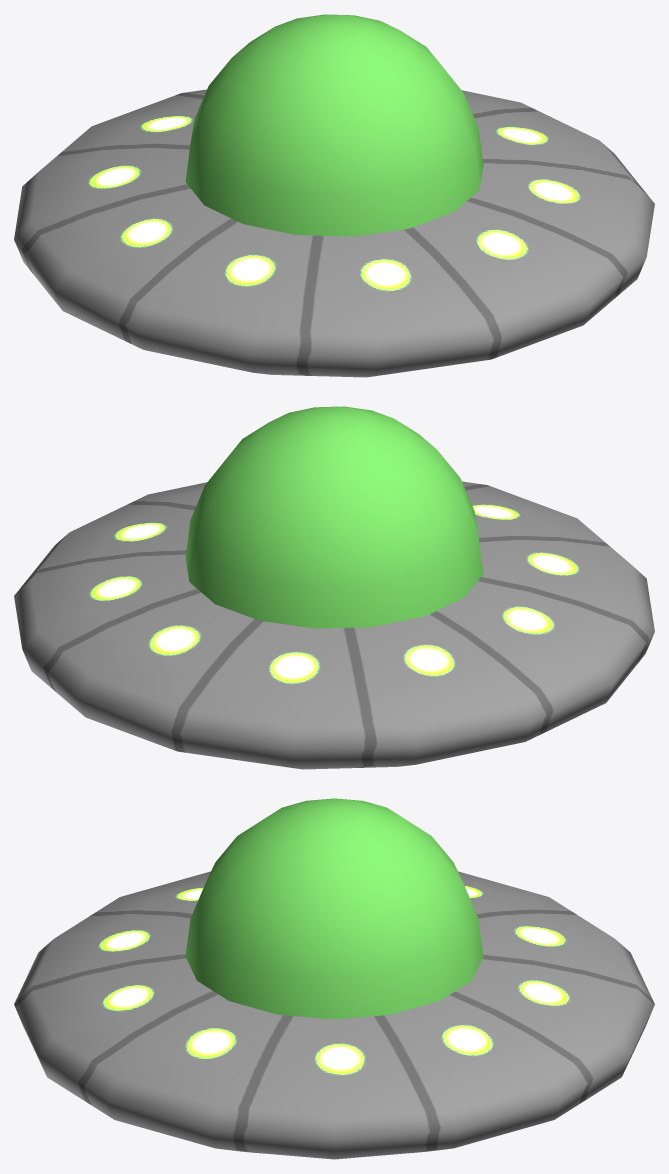
Rendered from UFO.fbx.
3 views of the same model, one above another, from view 1: azimuth 30°, elevation 25°; view 2: azimuth 150°, elevation 25°; view 3: azimuth 270°, elevation 25° (orthographic).
Parts seen in each view (by area): view 1: UFO; view 2: UFO; view 3: UFO.
Part boxes in pixels (left/top/right/bottom): UFO: left=14, top=14, right=654, bottom=377; UFO: left=14, top=406, right=654, bottom=769; UFO: left=14, top=798, right=654, bottom=1159.
Bounding box in the file's own units: 105 × 52.65 × 105.
Materials: 1 (1 with a texture image).
